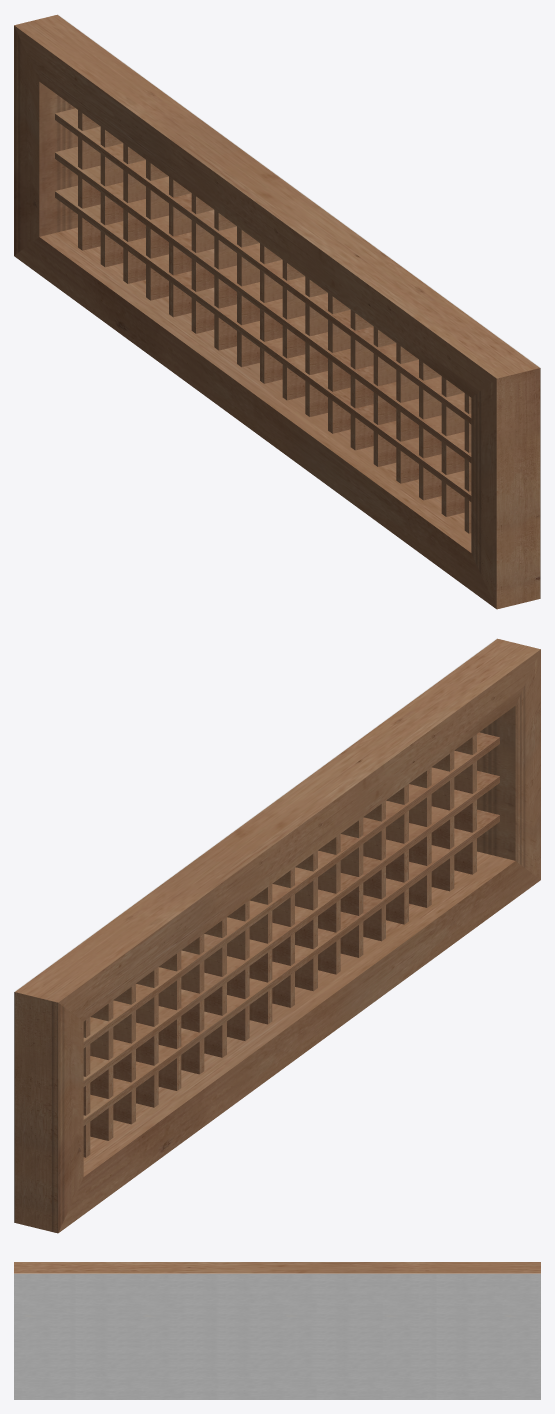
File: SM_JSH_WindowI.fbx
The picture shows the model from 3 angles, top to bottom: view 1: azimuth 30°, elevation 25°; view 2: azimuth 150°, elevation 25°; view 3: azimuth 270°, elevation 25°; orthographic projection. The views are drawn at different scales.
Visible parts, largest first — view 1: SM_JSH_WindowI; view 2: SM_JSH_WindowI; view 3: SM_JSH_WindowI.
Boxes of the visible parts, x1,y1,x2,y2 form: SM_JSH_WindowI: (14, 14, 540, 609); SM_JSH_WindowI: (14, 638, 540, 1233); SM_JSH_WindowI: (14, 1262, 540, 1399).
Size of the model in its own units: 5.82 by 110 by 29.02.
Materials: 1 (1 with a texture image).
